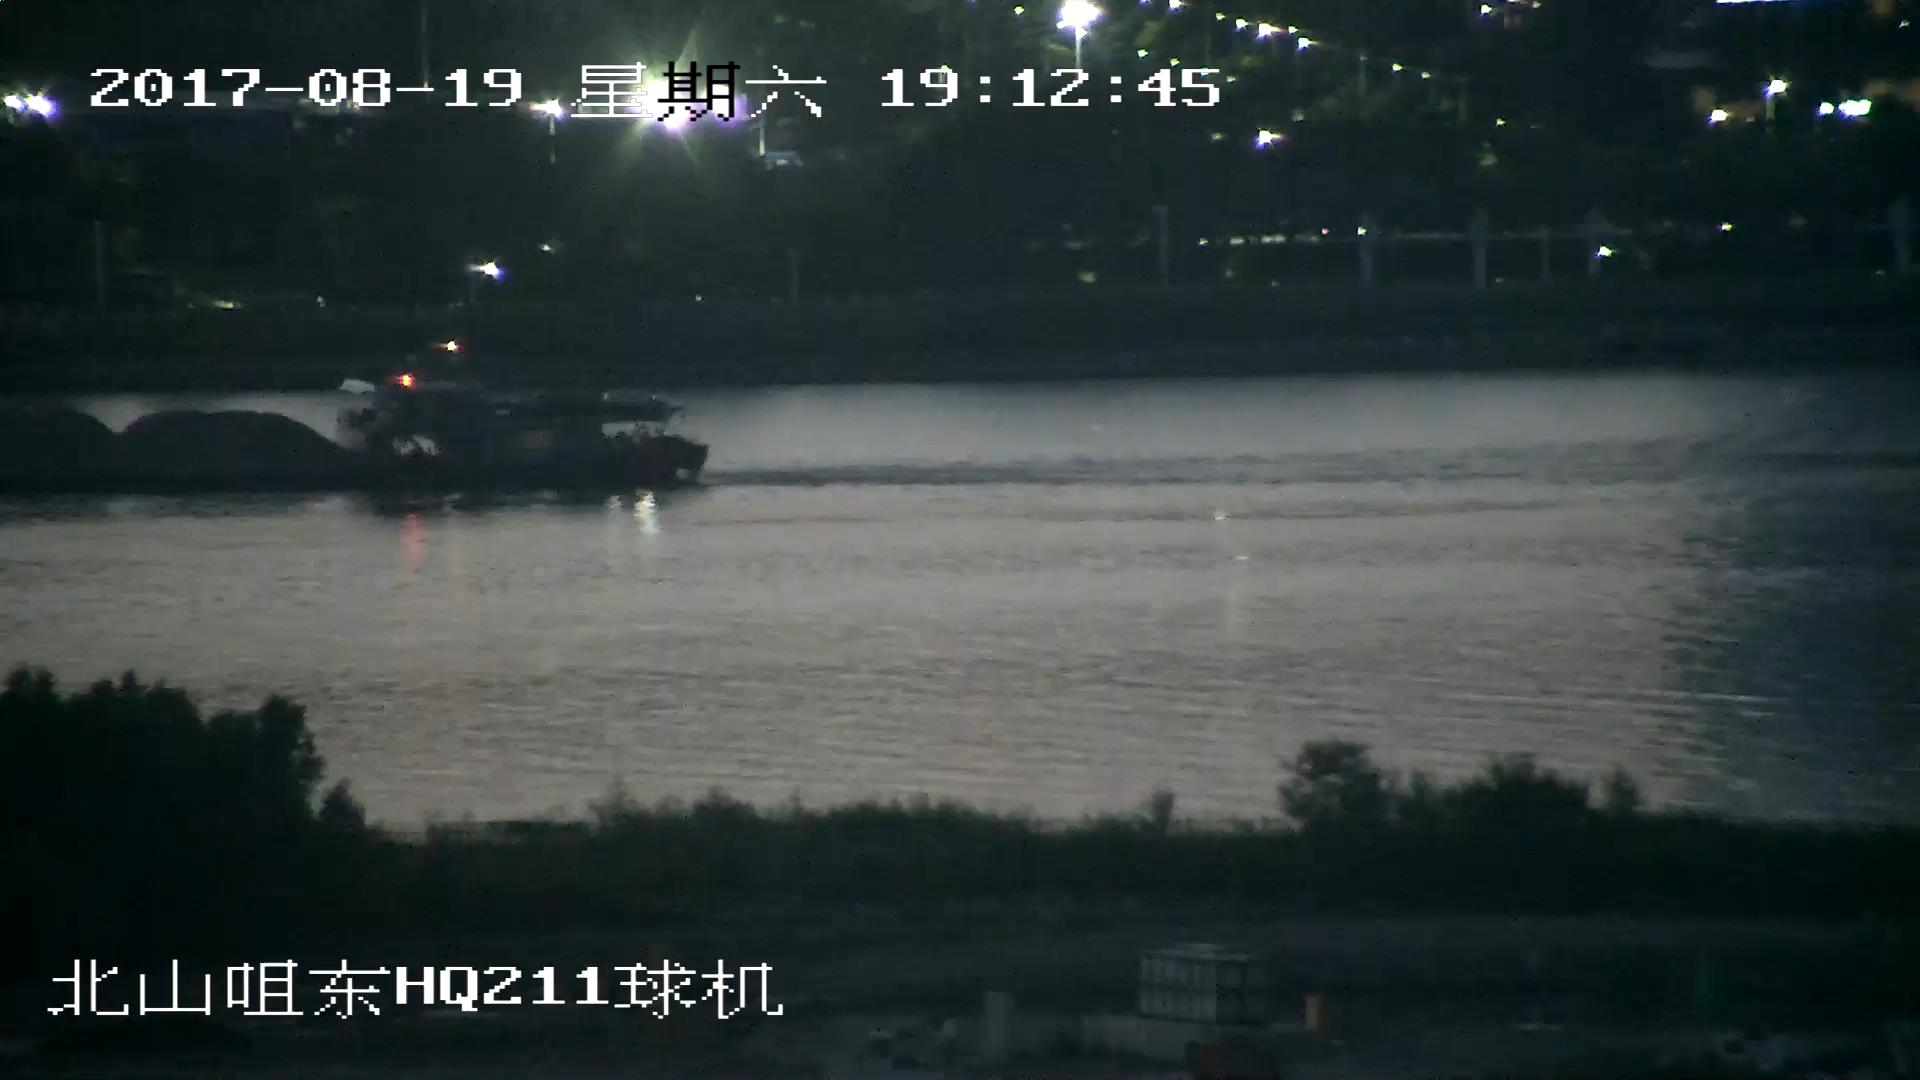ore carrier: (1, 361, 712, 510)
